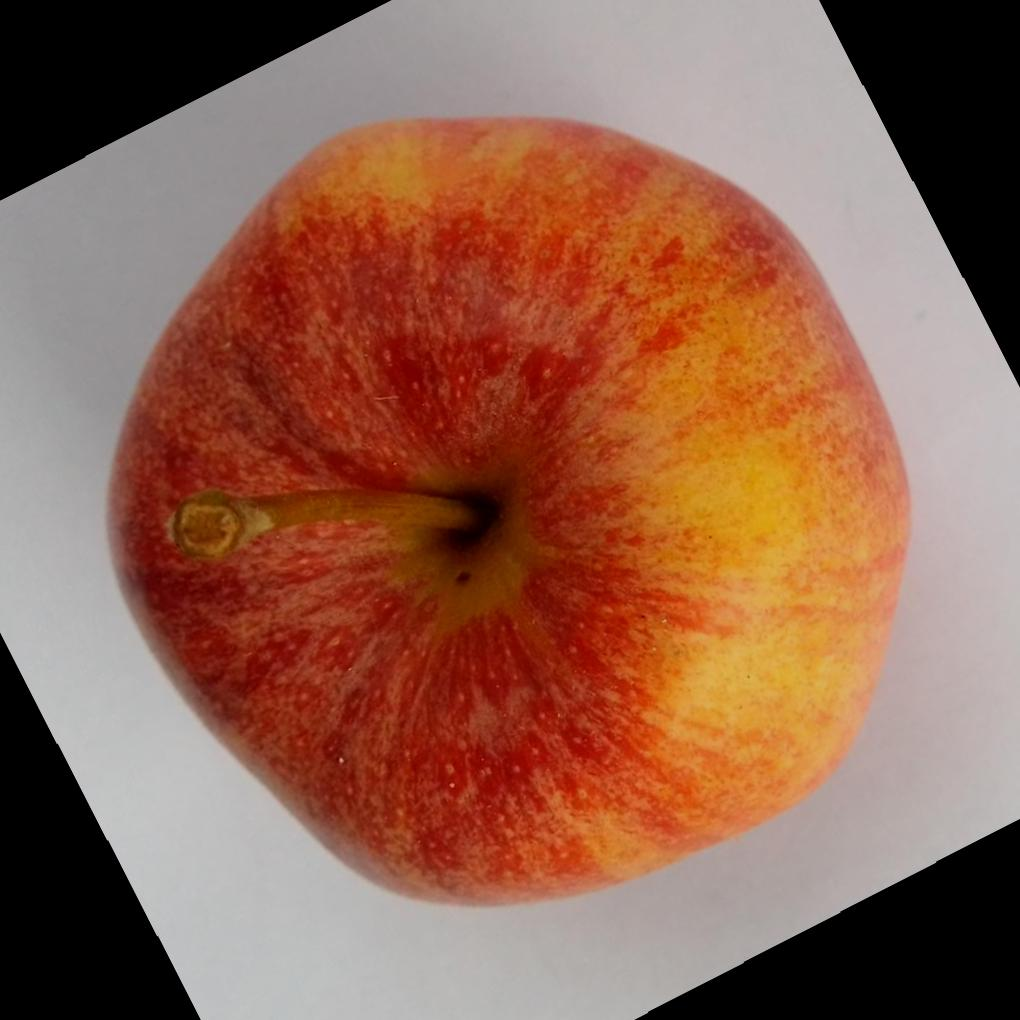FreshGuava: (104, 105, 918, 910)
